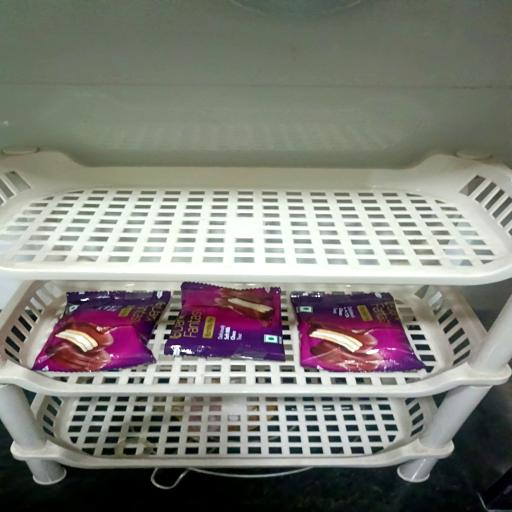Choco Pie: (32, 291, 170, 372), (292, 292, 429, 372), (166, 282, 285, 360)
